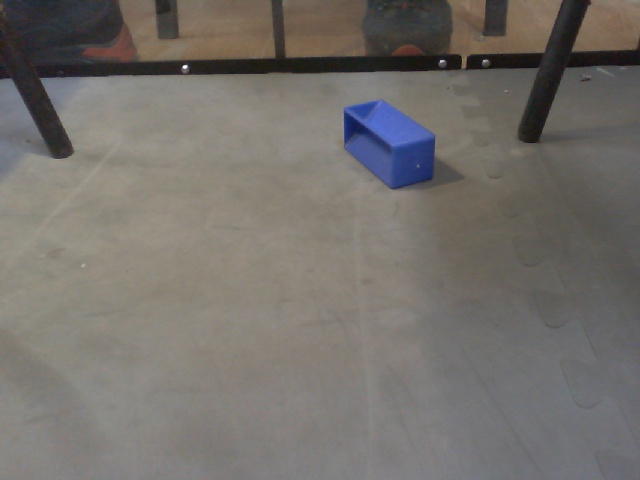BlueSample: (341, 96, 441, 194)
